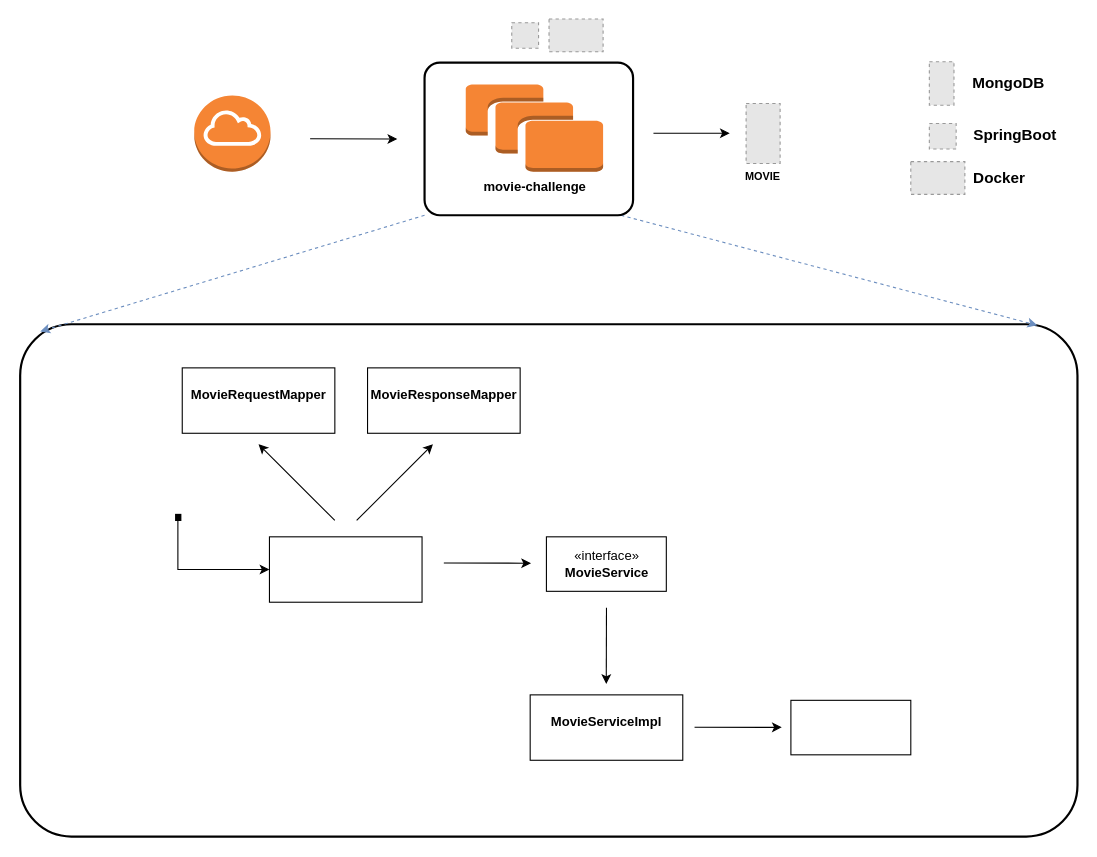
Some shapes in this 1097 by 857 pixel diagram are drawn without their labels. Grey dashed boxes stand in for pictures. Each missing label, with the centre of its shape:
"External" goes at [232,133].
"MovieController" goes at [345,569].
"«interface» MovieRepository" goes at [850,727].
